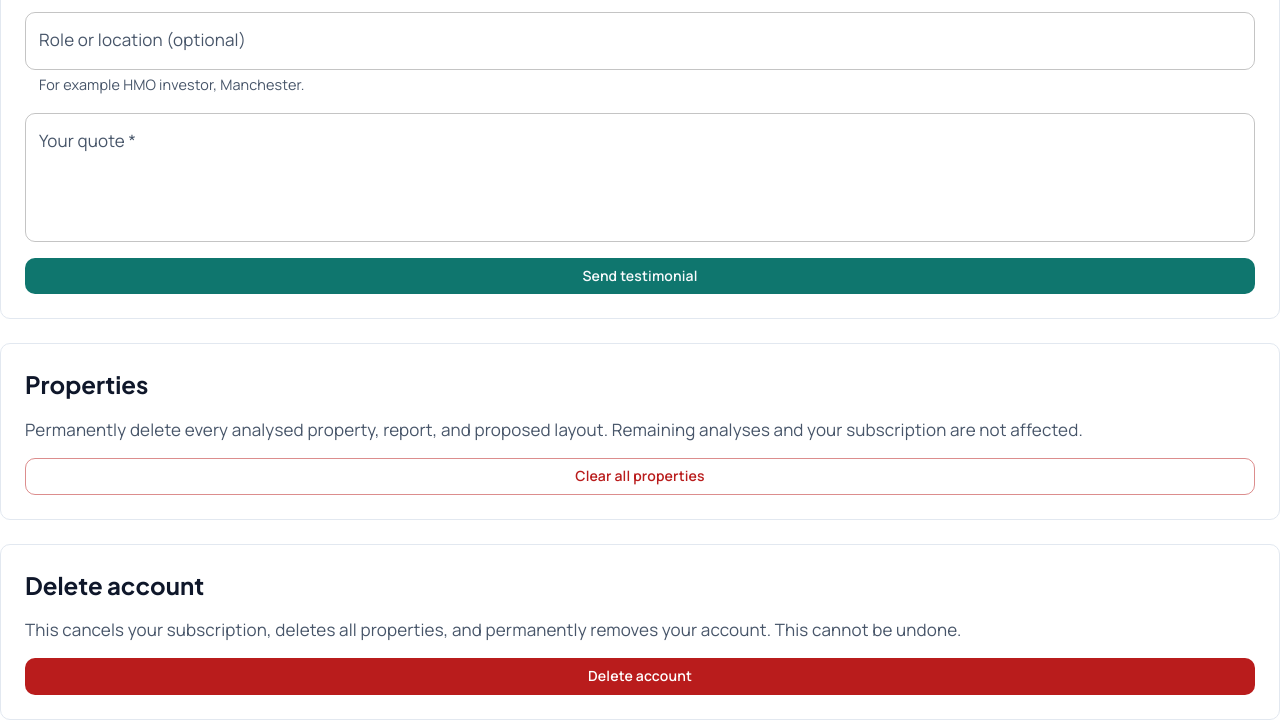
Test: AccountPage › clears all properties after confirmation
(page scrolled)
Step 1. Click the button "Clear all properties" → (640, 476), box [25,458,1255,495]
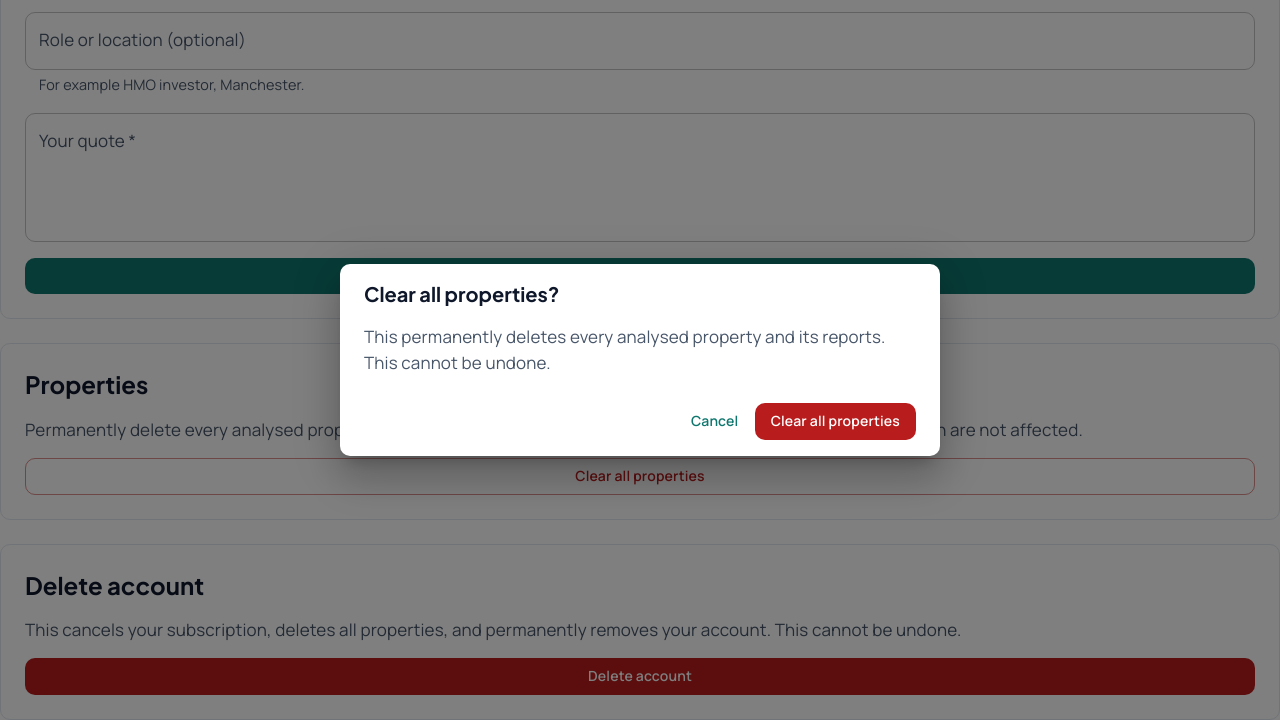
Step 2. Click the button "Clear all properties" → (835, 422), box [755,403,916,440]
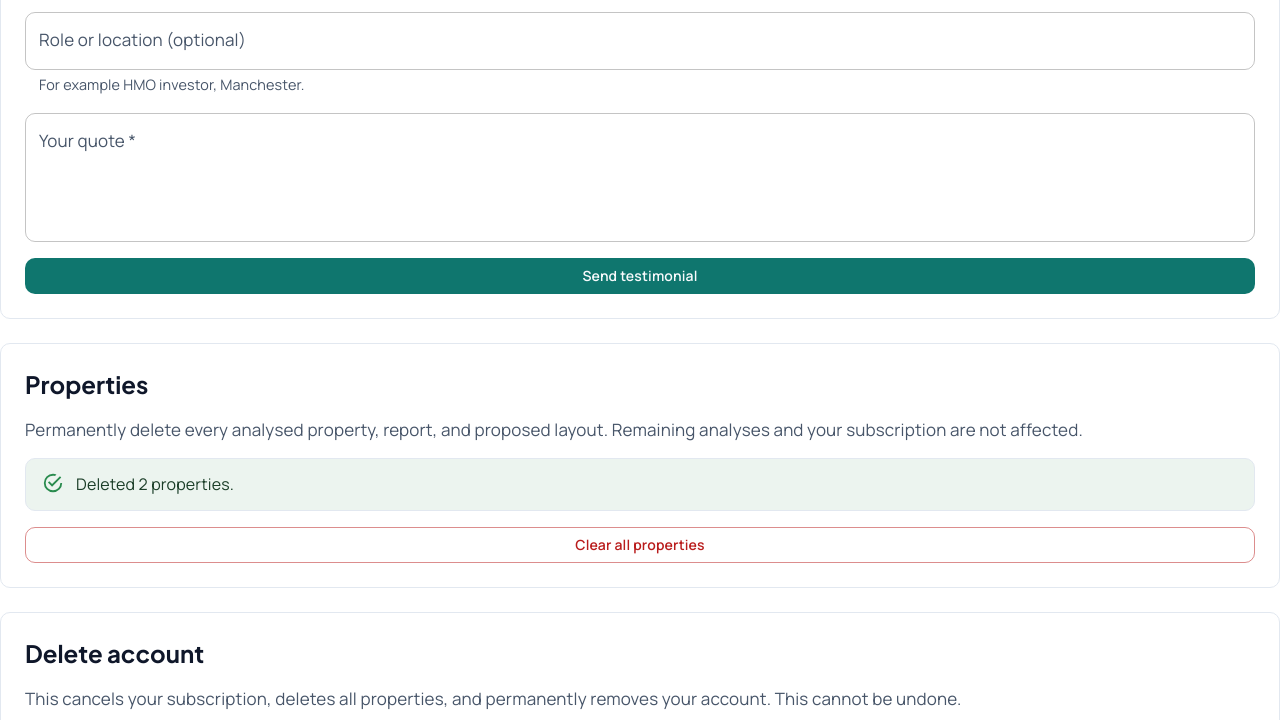
Expected: the text "Deleted 2 properties." is shown, [76,473,234,495]
